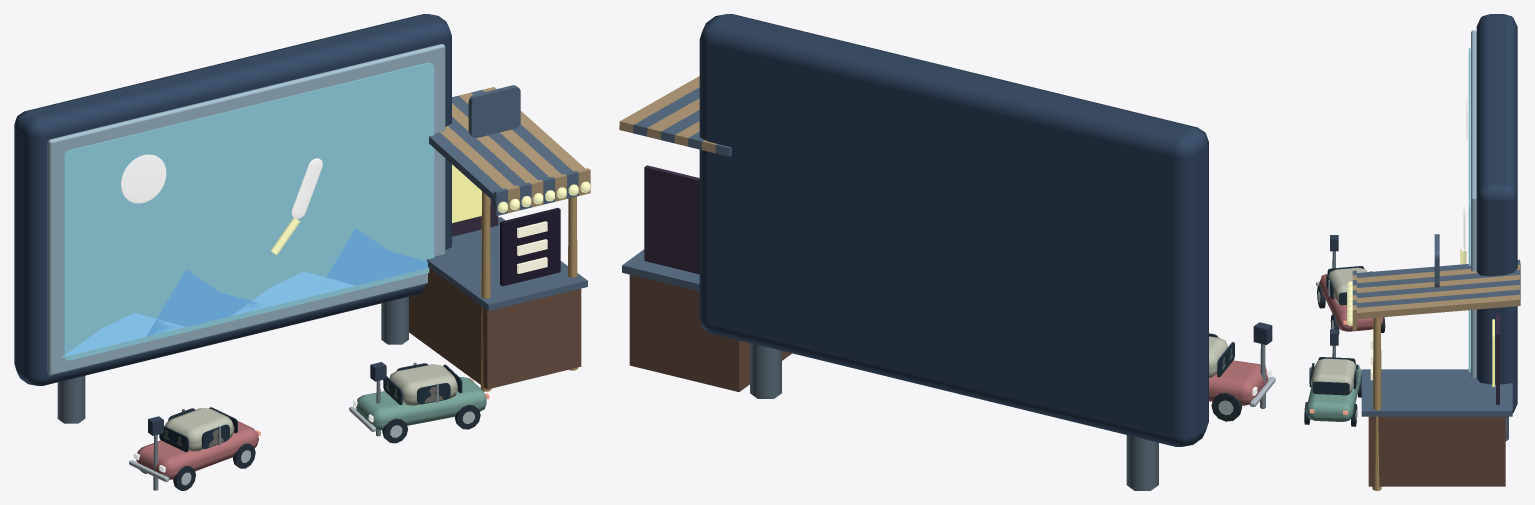
File: drivein-map.glb
3 renders of one model, left to right at view 1: azimuth 30°, elevation 25°; view 2: azimuth 150°, elevation 25°; view 3: azimuth 270°, elevation 25°, orthographic. The views are drawn at different scales.
Parts seen in each view (by area): view 1: place-static, place-drivein-map, movie; view 2: place-static; view 3: place-static, place-drivein-map, movie.
Boxes of the visible parts, x1,y1,x2,y2 form: place-static: [14, 14, 590, 490]; place-drivein-map: [63, 62, 434, 360]; movie: [61, 154, 428, 357]; place-static: [619, 14, 1275, 490]; place-static: [1304, 14, 1520, 490]; place-drivein-map: [1468, 48, 1470, 372]; movie: [1460, 96, 1467, 264].
Bounding box in the file's own units: 5.72 × 3.55 × 2.52.
